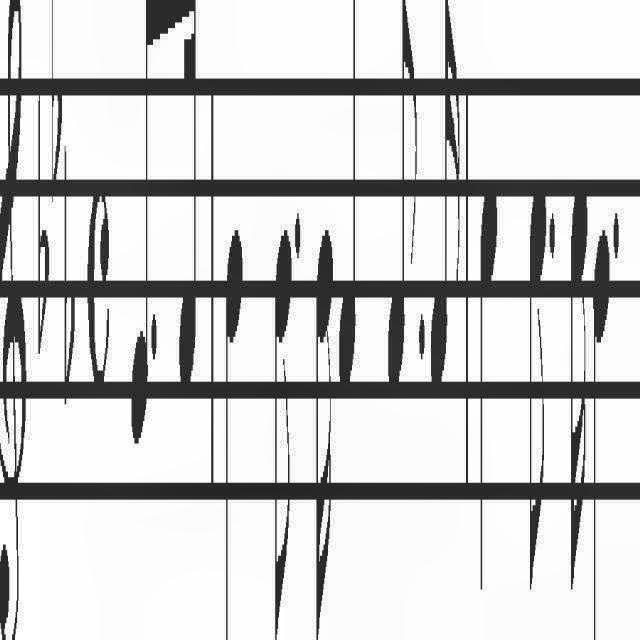Bass-clef: (0, 0, 28, 640)
Bemol: (36, 81, 50, 362), (63, 134, 77, 410), (49, 0, 63, 212)
Eighth-note: (386, 0, 418, 392), (129, 1, 151, 456), (271, 207, 293, 640), (528, 176, 548, 604)
Quarter-note: (478, 179, 498, 609), (223, 212, 243, 640), (338, 0, 358, 392), (592, 212, 610, 640)
Sixteenth-note: (429, 1, 461, 400), (568, 171, 590, 609), (313, 219, 335, 640), (176, 0, 199, 392)
